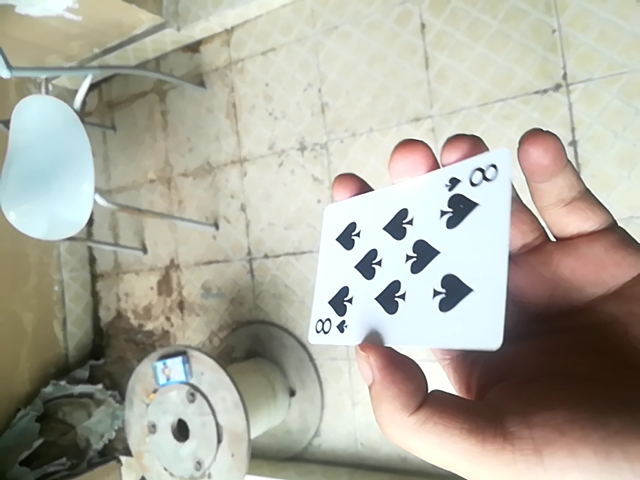ht 8: (309, 138, 517, 353)
